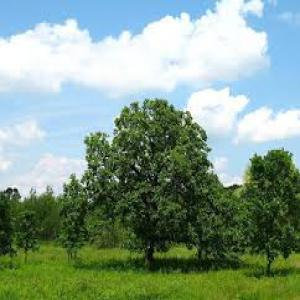Tree: (84, 96, 217, 266), (244, 146, 299, 268)
